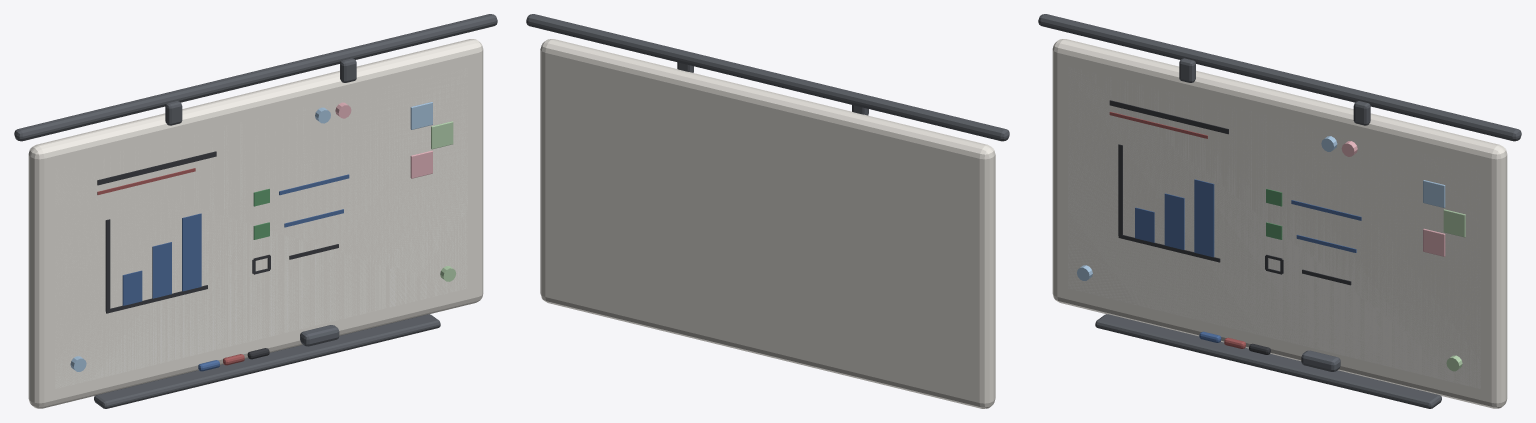
The model's file is whiteboard.glb.
3 views of the same model, side by side, from view 1: azimuth 30°, elevation 25°; view 2: azimuth 150°, elevation 25°; view 3: azimuth 330°, elevation 25° (orthographic).
Visible parts, largest first — view 1: Whiteboard, Doodle; view 2: Whiteboard; view 3: Whiteboard, Doodle.
Boxes of the visible parts, x1,y1,x2,y2 form: Whiteboard: (14, 14, 497, 408); Doodle: (97, 151, 349, 313); Whiteboard: (526, 14, 1009, 408); Whiteboard: (1038, 14, 1521, 408); Doodle: (1109, 100, 1361, 285).
Size of the model in its own units: 1.65 by 0.935 by 0.135.
